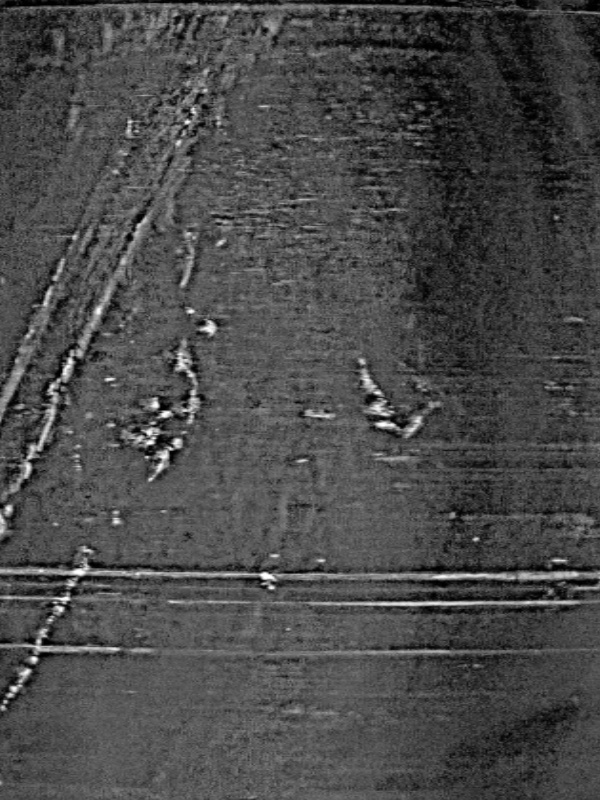splice_vulcanized: (2, 5, 257, 563)
